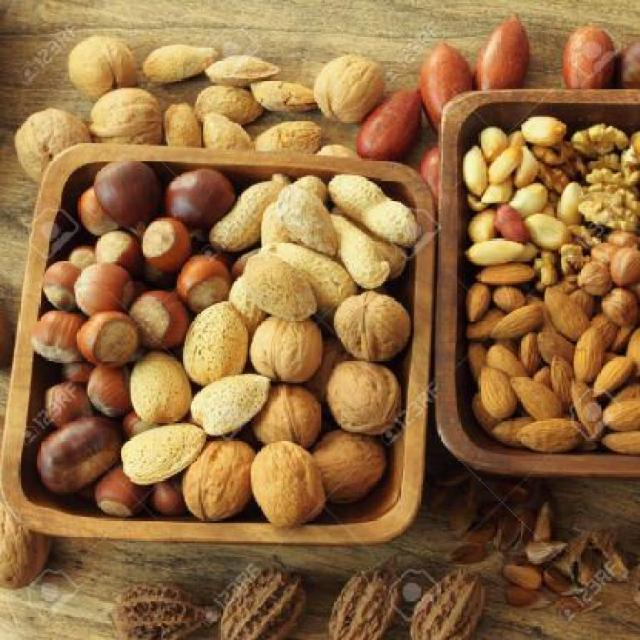Frutta secca: (45, 171, 412, 529), (467, 128, 640, 451)
